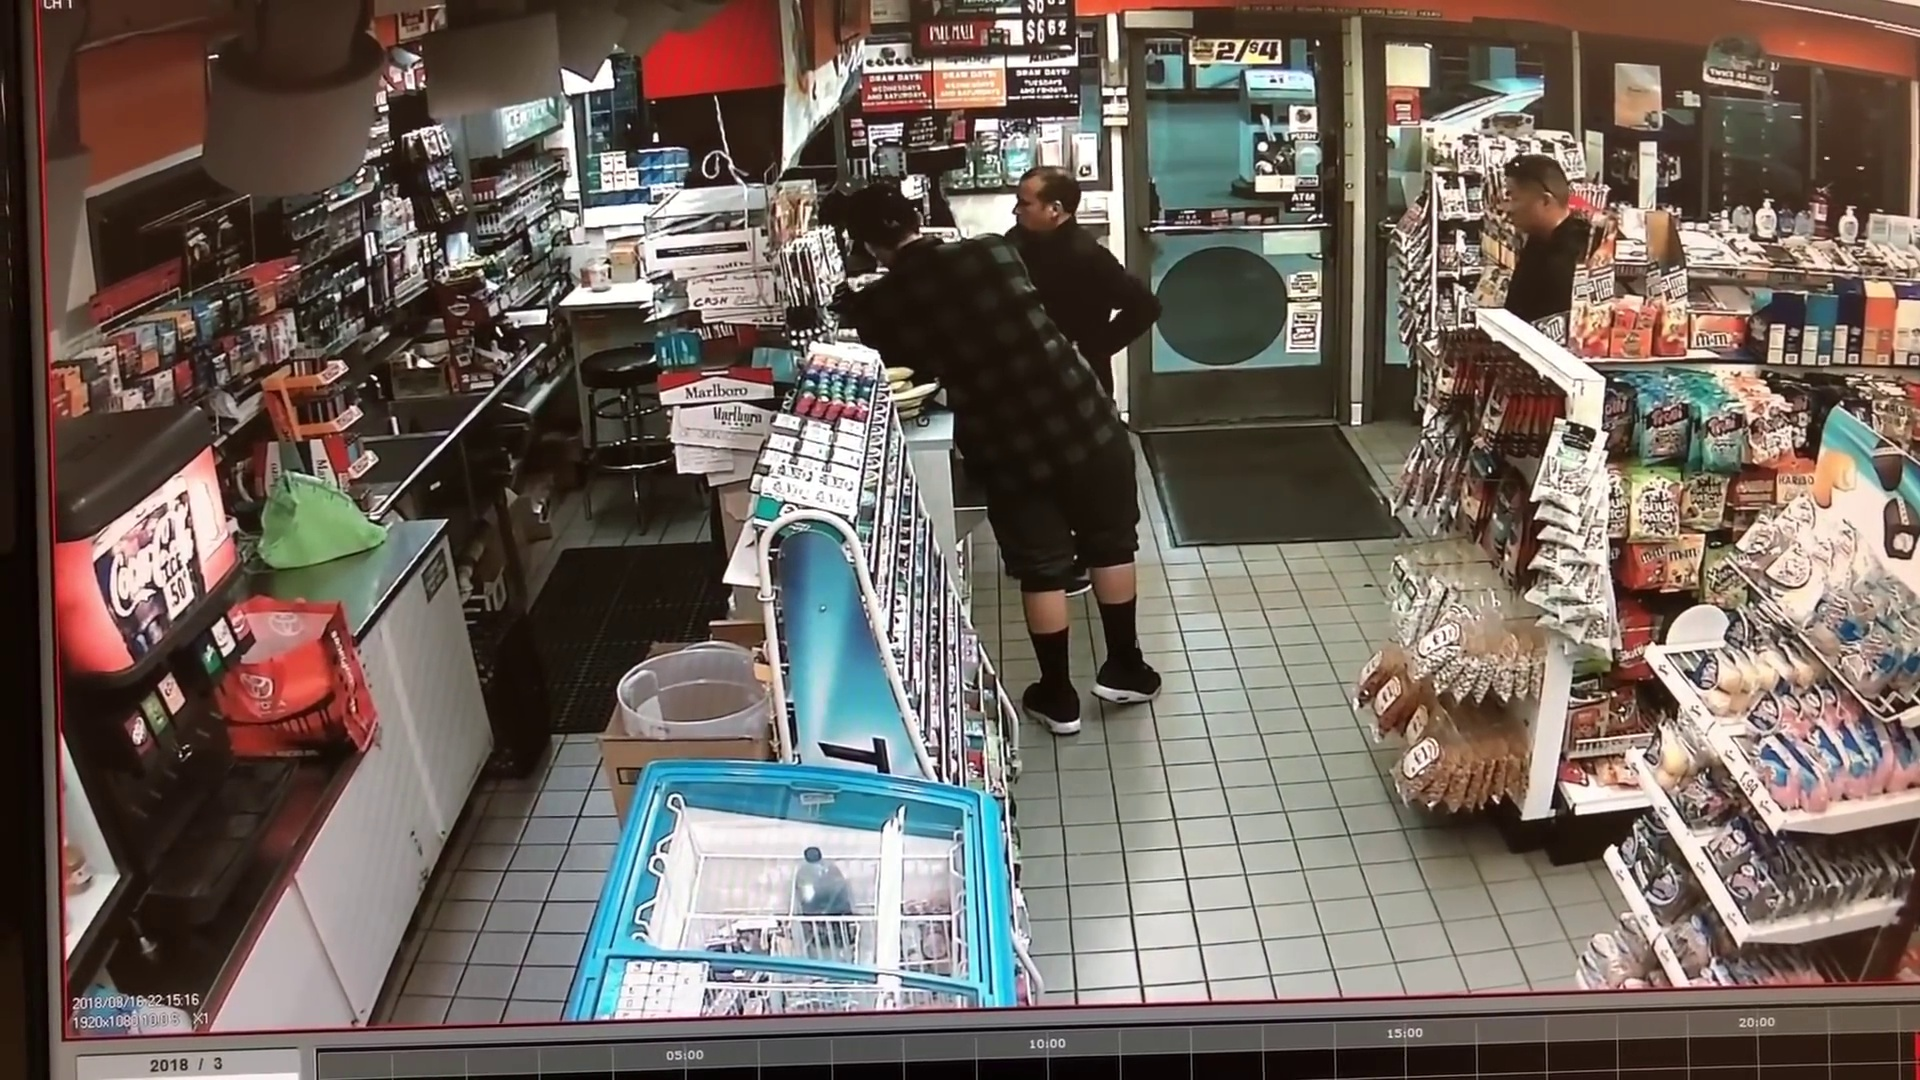face: (1504, 184, 1551, 234), (1012, 182, 1050, 231)
